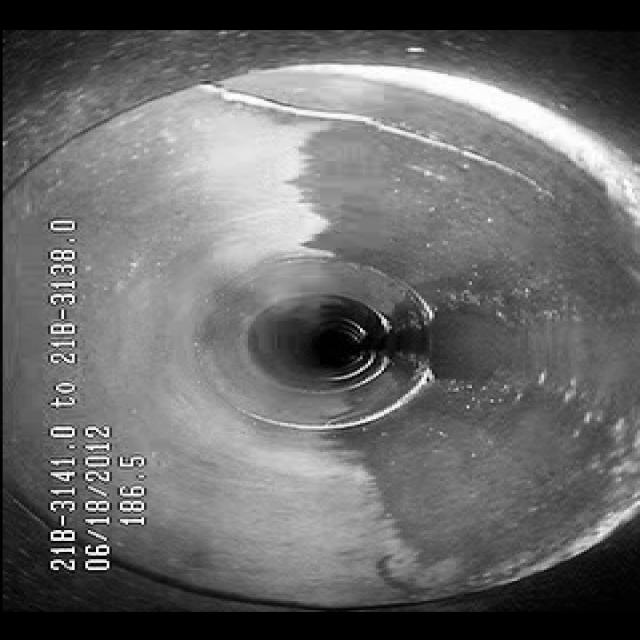Crack: (179, 80, 515, 174)
